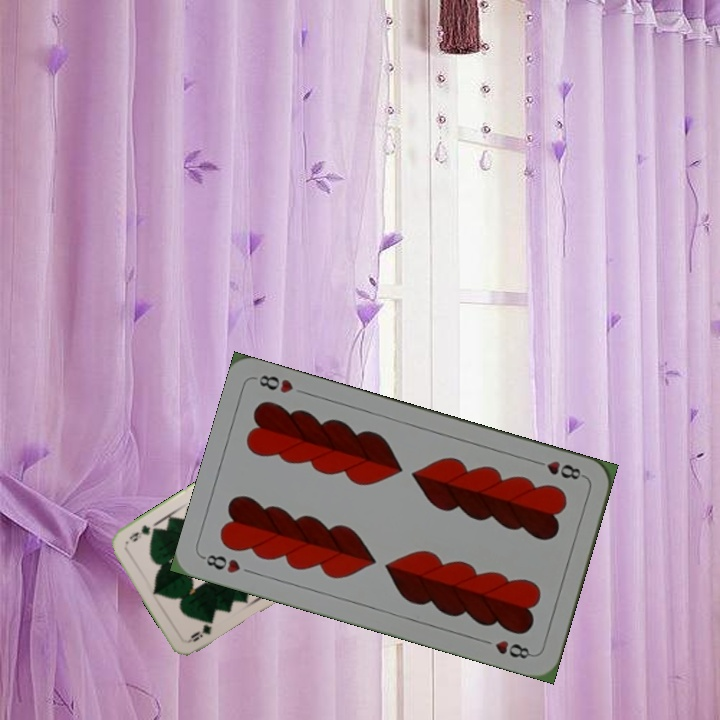G9: (185, 621, 215, 645)
H8: (530, 456, 588, 483), (199, 550, 243, 576)
